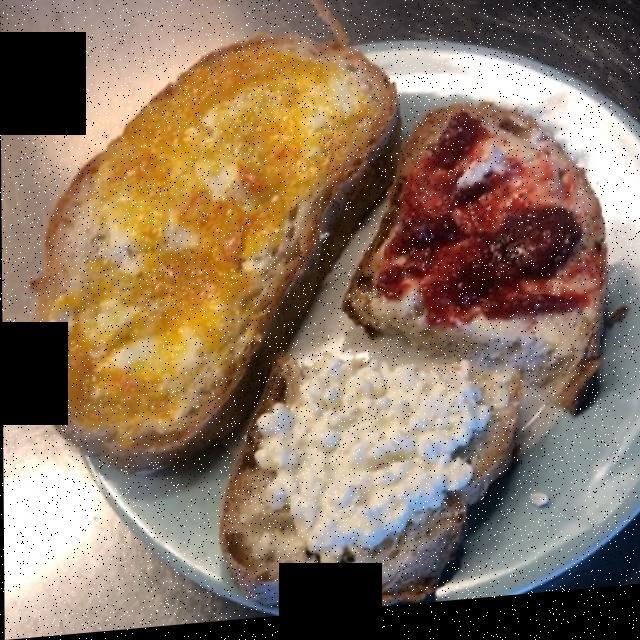bread: (21, 46, 614, 605)
cheese: (250, 371, 477, 563)
jam: (27, 58, 596, 450)
